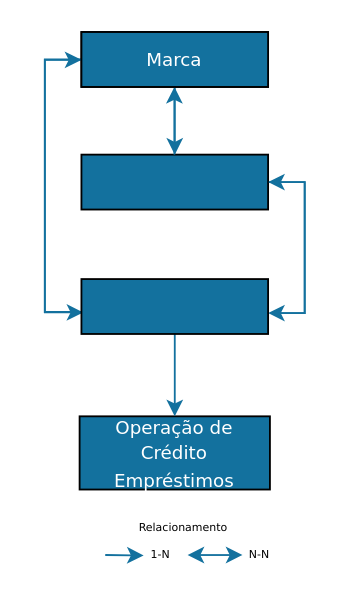
Image size: 351x604. Some labels were removed from this diagram. Here are the shapes that lost their labels. From the top down, the centre of each, then its label:
At (174,181): "Instituição".
At (174,305): "Cliente PN e PJ".
